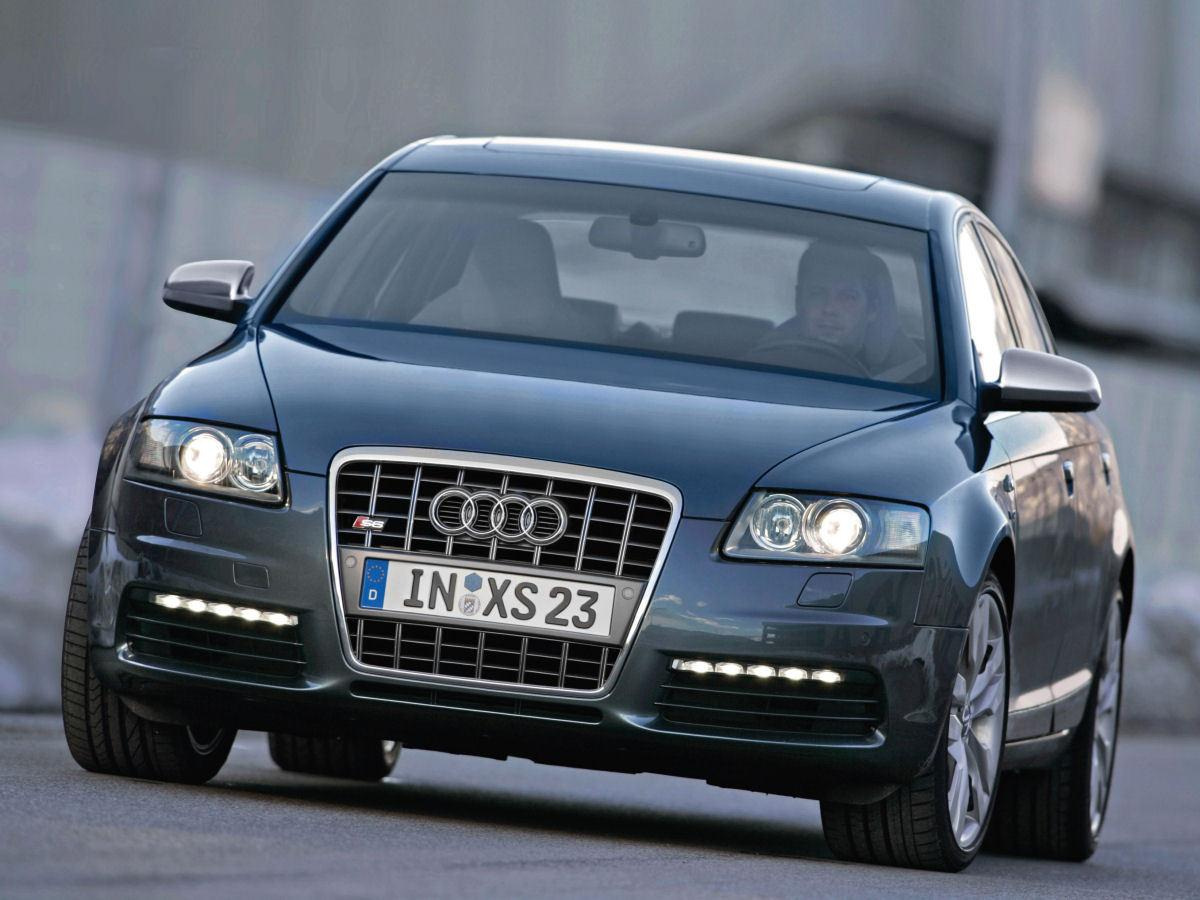car: (58, 126, 1131, 878)
